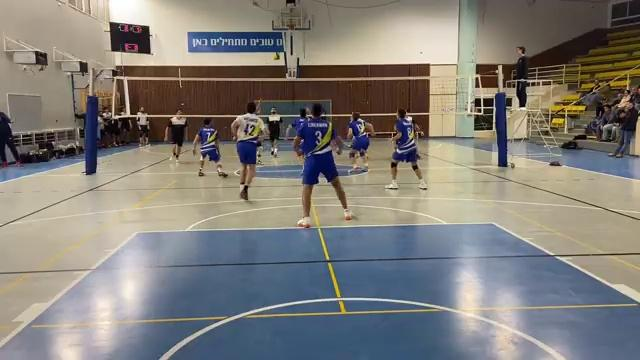ball: (272, 54, 280, 60)
